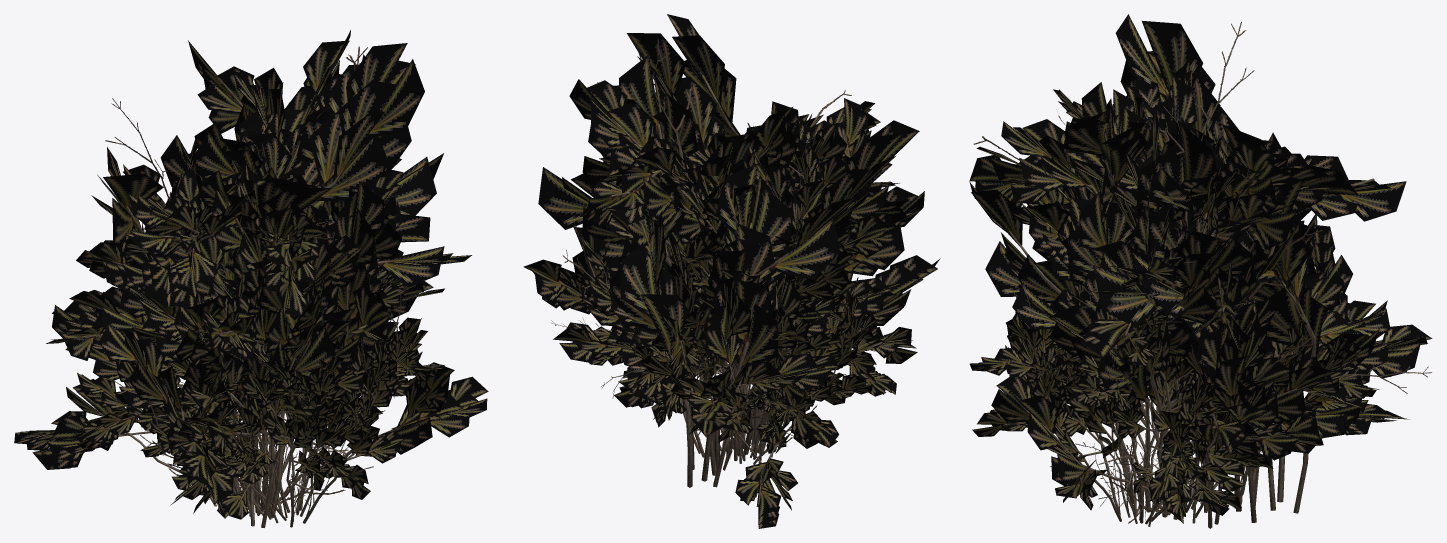
Rendered from arid-scrub.glb.
3 renders of one model, left to right at view 1: azimuth 30°, elevation 25°; view 2: azimuth 150°, elevation 25°; view 3: azimuth 270°, elevation 25°, orthographic. The views are drawn at different scales.
Visible parts, largest first — view 1: arid-scrub specimen B, arid-scrub specimen D, arid-scrub specimen A, arid-scrub specimen E, arid-scrub specimen C; view 2: arid-scrub specimen E, arid-scrub specimen B, arid-scrub specimen D, arid-scrub specimen C, arid-scrub specimen A; view 3: arid-scrub specimen D, arid-scrub specimen E, arid-scrub specimen A, arid-scrub specimen C, arid-scrub specimen B.
Boxes of the visible parts, x1,y1,x2,y2 form: arid-scrub specimen B: (14, 98, 488, 516); arid-scrub specimen D: (124, 30, 471, 527); arid-scrub specimen A: (77, 263, 444, 527); arid-scrub specimen E: (91, 43, 443, 441); arid-scrub specimen C: (46, 155, 403, 513); arid-scrub specimen E: (538, 14, 919, 487); arid-scrub specimen B: (553, 98, 917, 528); arid-scrub specimen D: (569, 35, 940, 457); arid-scrub specimen C: (523, 90, 917, 470); arid-scrub specimen A: (551, 296, 896, 453); arid-scrub specimen D: (969, 75, 1406, 519); arid-scrub specimen E: (1063, 14, 1324, 522); arid-scrub specimen A: (969, 279, 1431, 526); arid-scrub specimen C: (969, 82, 1432, 528); arid-scrub specimen B: (991, 21, 1409, 523).
Bounding box in the file's own units: 1 × 1.1 × 1.
Materials: 3 (3 with a texture image).
